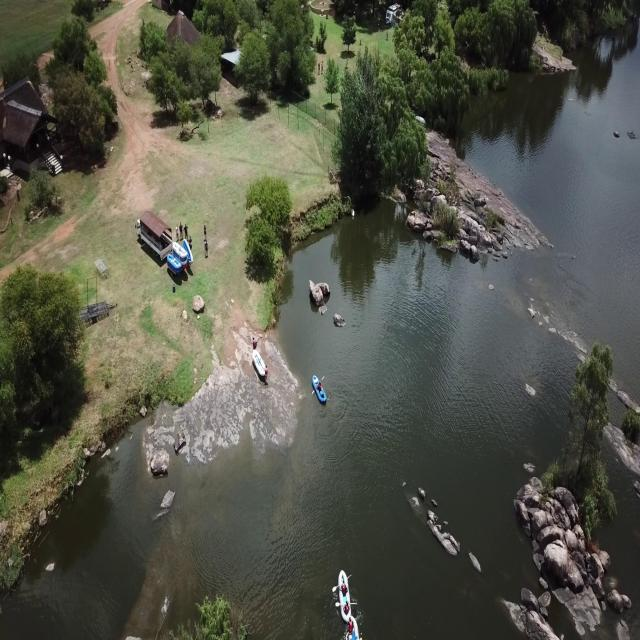kayak: (333, 572, 355, 624), (311, 374, 329, 409), (346, 615, 362, 640)
